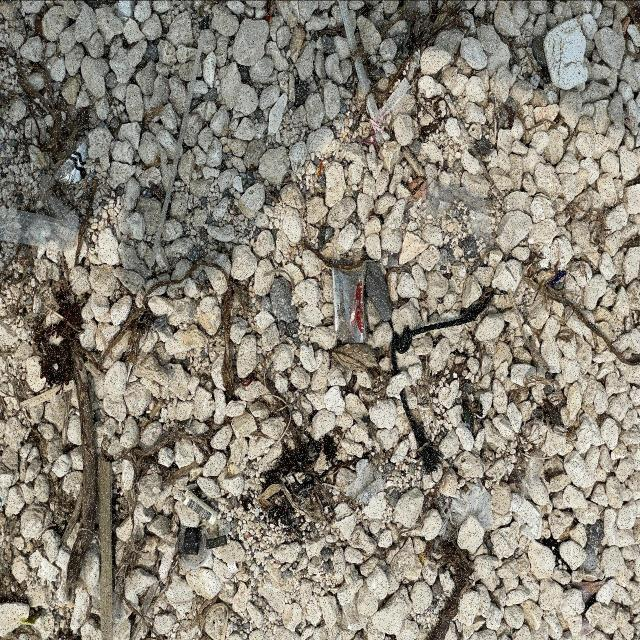plastic_waste: (334, 263, 367, 345)
